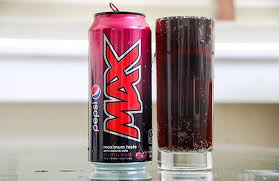can: (83, 8, 158, 179)
